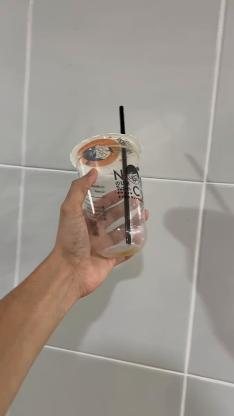Plastic Cup: (70, 134, 150, 258)
